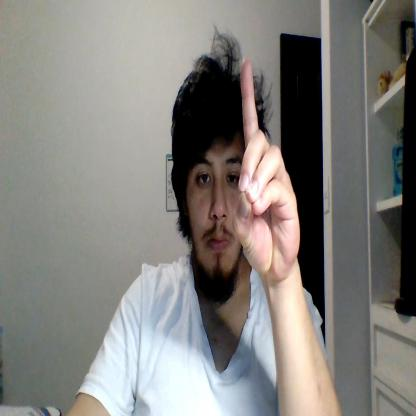D: (234, 60, 300, 275)
